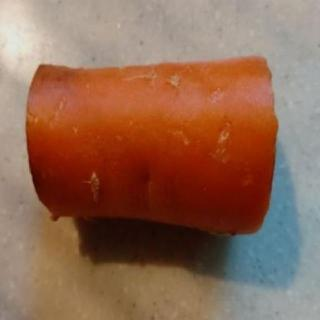carrot: (17, 48, 285, 248)
